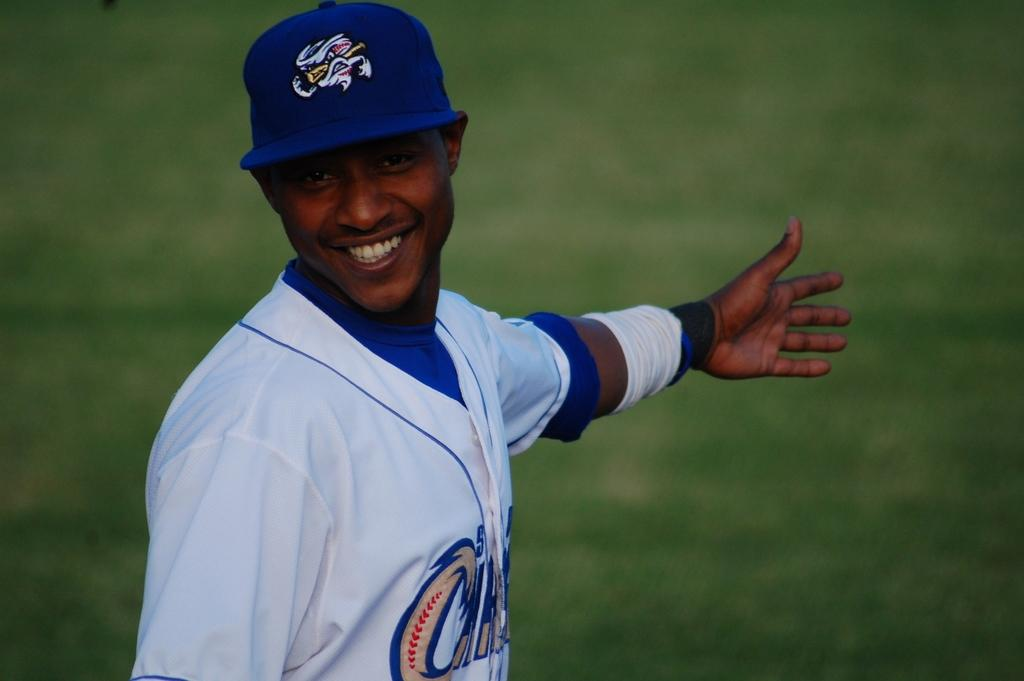Hat: (233, 0, 471, 184)
